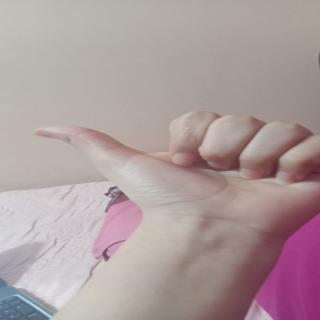DAD: (29, 110, 320, 217)
